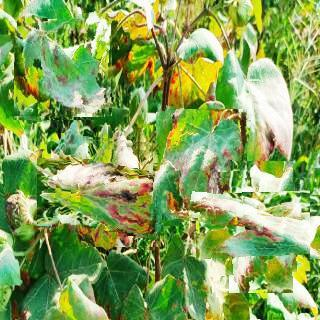blight: (53, 136, 164, 247), (152, 109, 247, 224), (14, 14, 116, 120), (212, 178, 310, 276)
